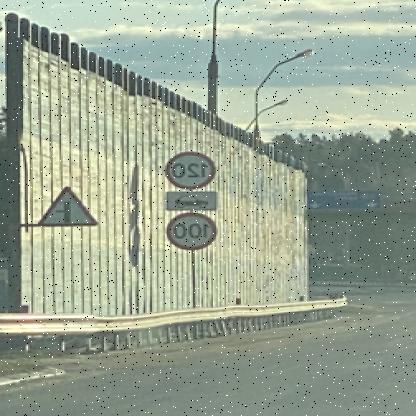speedlimit: (168, 212, 222, 249), (168, 150, 219, 188)
